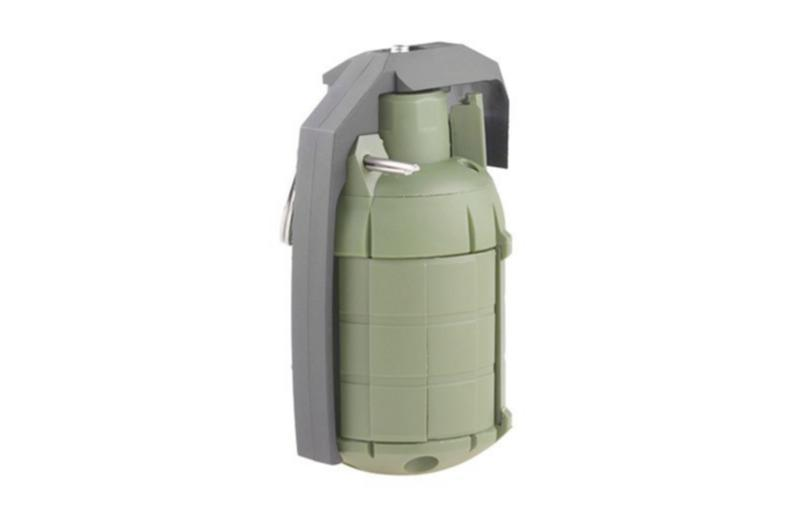Grenade: (280, 43, 514, 477)
